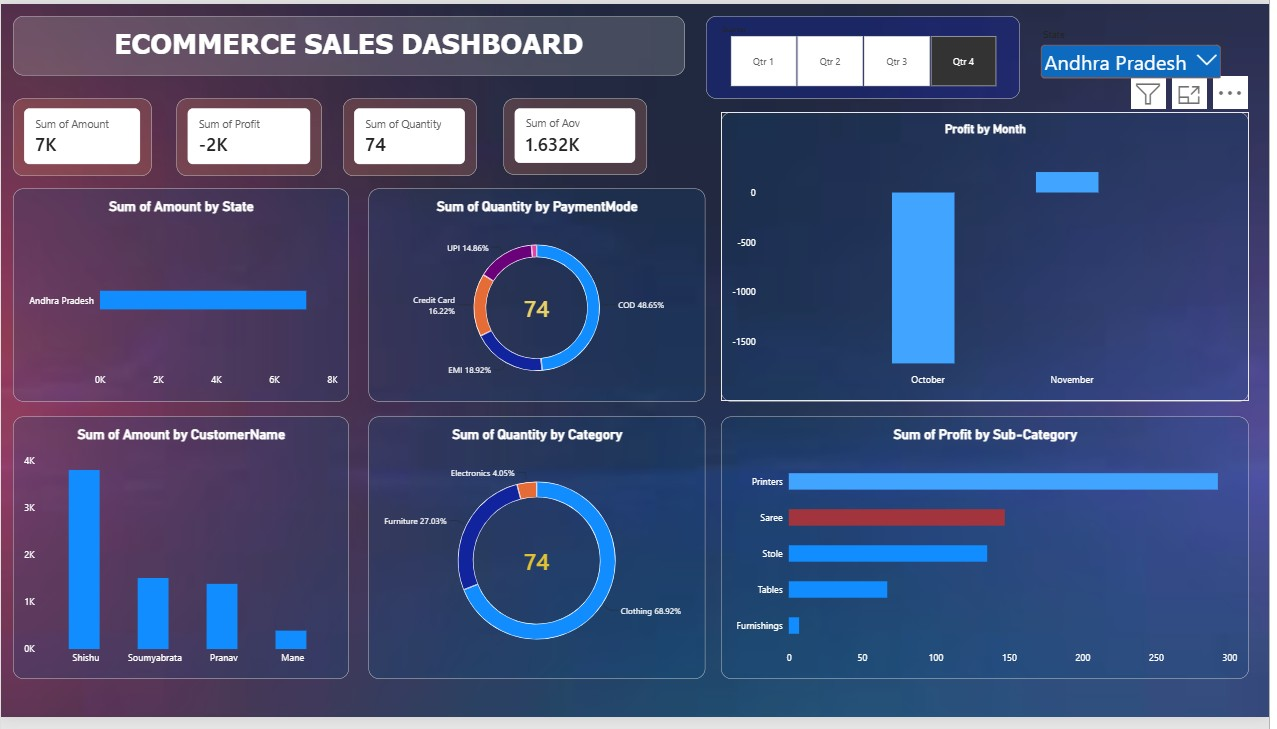

Layout of this report page (visuals, bound fields, positions):
{"tool":"powerbi","page":{"name":"Page 1","canvas":[1920,1080],"ordinal":0},"visuals":[{"type":"textbox","box":[17.5,17.5,1017.5,90],"z":0},{"type":"columnChart","title":"Profit by Month","fields":{"Y":["Sum(Details.Profit)"],"Category":["Orders.Order Date.Variation.Date Hierarchy.Month"]},"box":[1090.2,163.5,799.5,438.4],"z":1000},{"type":"barChart","fields":{"Category":["Details.Sub-Category"],"Y":["Sum(Details.Profit)"]},"box":[1090.2,624.6,799.5,397.5],"z":2000},{"type":"donutChart","fields":{"Category":["Details.Category"],"Y":["Sum(Details.Quantity)"]},"box":[557.5,625,510,397.5],"z":3000},{"type":"donutChart","title":"Sum of Quantity by PaymentMode","fields":{"Y":["Sum(Details.Quantity)"],"Category":["Details.PaymentMode"]},"box":[557.5,280,510,322.5],"z":4000},{"type":"cardVisual","fields":{"Data":["Sum(Details.Amount)"]},"box":[17.5,142.5,210,117.5],"z":5000},{"type":"cardVisual","fields":{"Data":["Sum(Details.Profit)"]},"box":[265,142.5,220,117.5],"z":6000},{"type":"cardVisual","fields":{"Data":["Sum(Details.Quantity)"]},"box":[517.5,142.5,202.5,117.5],"z":7000},{"type":"cardVisual","fields":{"Data":["Sum(Details.Aov)"]},"box":[760,142.5,217.5,115],"z":8000},{"type":"barChart","fields":{"Category":["Orders.State"],"Y":["Sum(Details.Amount)"]},"box":[18.2,279.4,508.8,322.5],"z":9000},{"type":"columnChart","fields":{"Category":["Orders.CustomerName"],"Y":["Sum(Details.Amount)"]},"box":[18.2,624.6,508.8,397.5],"z":10000},{"type":"slicer","fields":{"Values":["Orders.Order Date.Variation.Date Hierarchy.Quarter"]},"box":[1067.5,17.5,475,125],"z":11000},{"type":"slicer","fields":{"Values":["Orders.State"]},"box":[1570,37.5,282.5,125],"z":12000}]}

Visuals, with their boxes in screenshot pixels (x1, y1, x2, y2), scaled from the page's 1920x1080 canvas onto the 1277x729 screenshot:
textbox: {"left": 12, "top": 12, "right": 688, "bottom": 73}
"Profit by Month" columnChart: {"left": 725, "top": 110, "right": 1257, "bottom": 406}
barChart - Details.Sub-Category x Sum(Details.Profit): {"left": 725, "top": 422, "right": 1257, "bottom": 690}
donutChart - Details.Category x Sum(Details.Quantity): {"left": 371, "top": 422, "right": 710, "bottom": 690}
"Sum of Quantity by PaymentMode" donutChart: {"left": 371, "top": 189, "right": 710, "bottom": 407}
cardVisual - Sum(Details.Amount): {"left": 12, "top": 96, "right": 151, "bottom": 176}
cardVisual - Sum(Details.Profit): {"left": 176, "top": 96, "right": 323, "bottom": 176}
cardVisual - Sum(Details.Quantity): {"left": 344, "top": 96, "right": 479, "bottom": 176}
cardVisual - Sum(Details.Aov): {"left": 505, "top": 96, "right": 650, "bottom": 174}
barChart - Orders.State x Sum(Details.Amount): {"left": 12, "top": 189, "right": 351, "bottom": 406}
columnChart - Orders.CustomerName x Sum(Details.Amount): {"left": 12, "top": 422, "right": 351, "bottom": 690}
slicer - Orders.Order Date.Variation.Date Hierarchy.Quarter: {"left": 710, "top": 12, "right": 1026, "bottom": 96}
slicer - Orders.State: {"left": 1044, "top": 25, "right": 1232, "bottom": 110}
